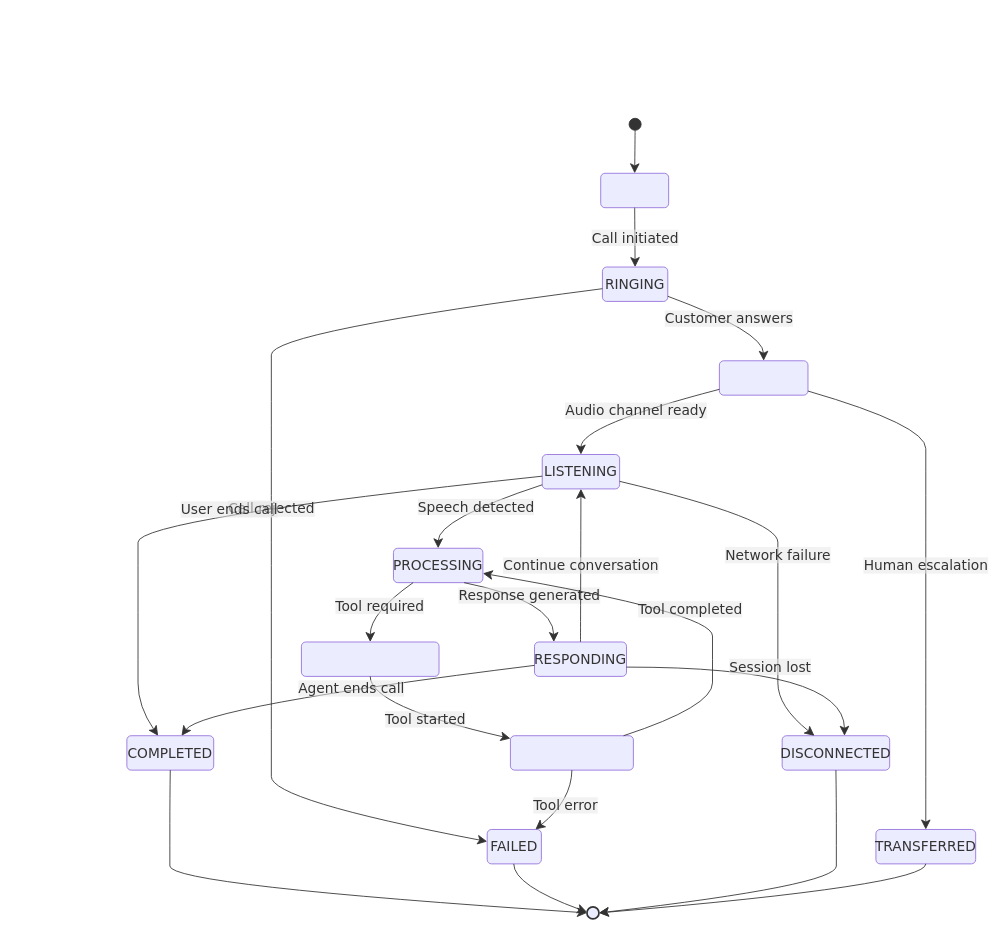
Some shapes in this 1002 by 934 pixel diagram are drawn without their labels. The box of each missing label's shape, as (x1, y1, x2, y2) in pixels:
CONNECTED: (719, 360, 808, 395)
CREATED: (600, 172, 669, 208)
TOOL_EXECUTION: (510, 735, 633, 770)
WAITING_FOR_TOOL: (301, 641, 439, 676)
